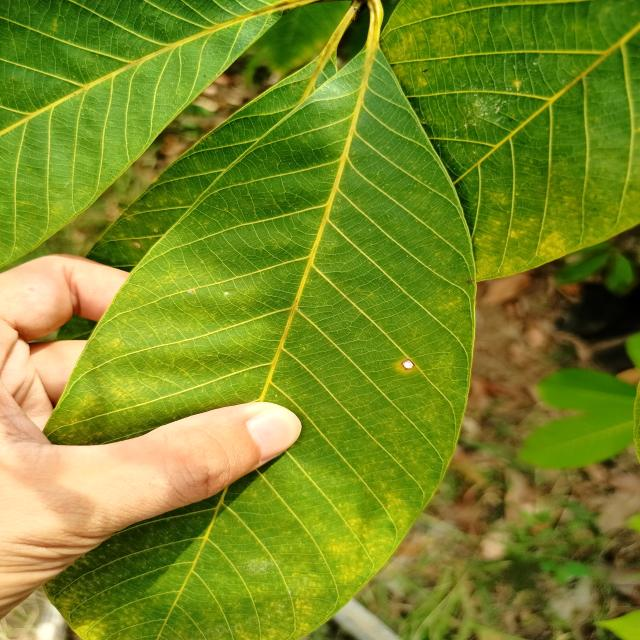Colletotrichum: (402, 359, 414, 370)
